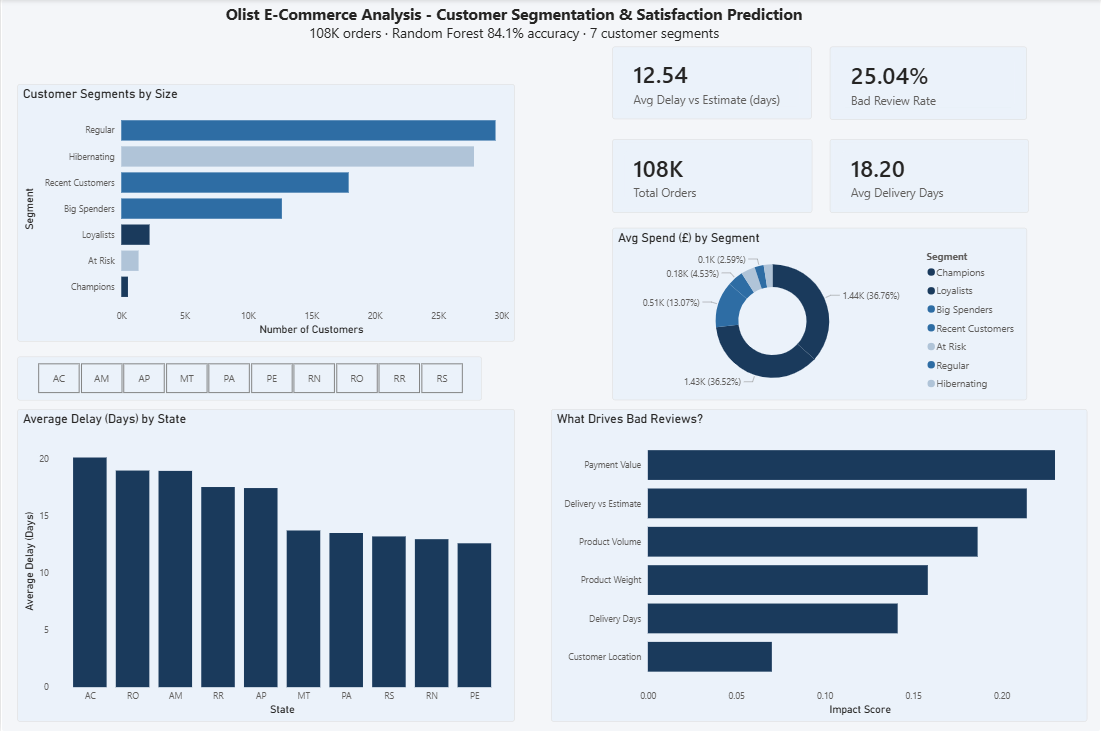

Layout of this report page (visuals, bound fields, positions):
{"tool":"powerbi","page":{"name":"Page 1","canvas":[1500,1000],"ordinal":0},"visuals":[{"type":"cardVisual","fields":{"Data":["Sum(state_delivery.order_count)"]},"box":[833.3,190.9,272.7,100.5],"z":0},{"type":"cardVisual","fields":{"Data":["Avg(state_delivery.avg_delivery_days)"]},"box":[1129.9,190.9,271,100.5],"z":1000},{"type":"cardVisual","fields":{"Data":["Avg(state_delivery.avg_delay)"]},"box":[833.5,65.3,272.1,99.5],"z":2000},{"type":"cardVisual","fields":{"Data":["Avg(state_delivery.bad_review_rate)"]},"box":[1130.4,65.3,269,100],"z":3000},{"type":"clusteredColumnChart","fields":{"Category":["state_delivery.customer_state"],"Y":["Avg(state_delivery.avg_delay)"]},"box":[22.2,559,678.3,426],"z":4000},{"type":"clusteredBarChart","title":"Customer Segments by Size","fields":{"Category":["rfm_segments.Segment"],"Y":["Sum(rfm_segments.customer_count)"]},"box":[22.2,115.9,678.3,351.1],"z":5000},{"type":"slicer","fields":{"Values":["state_delivery.customer_state"]},"box":[22.2,487.4,634,59.6],"z":6000},{"type":"textbox","box":[227.3,0,945.4,84],"z":7000},{"type":"donutChart","fields":{"Category":["rfm_segments.Segment"],"Y":["Sum(rfm_segments.avg_monetary)"]},"box":[833.3,311.9,565.8,235.2],"z":8000},{"type":"clusteredBarChart","title":"What Drives Bad Reviews?","fields":{"Y":["Sum(feature_importance.importance)"],"Category":["feature_importance.feature"]},"box":[749.8,559,731.1,426],"z":9000}]}

Visuals, with their boxes in screenshot pixels (x1, y1, x2, y2), scaled from the page's 1500x1000 canvas onto the 1101x731 screenshot:
cardVisual - Sum(state_delivery.order_count): <box>612,140,812,213</box>
cardVisual - Avg(state_delivery.avg_delivery_days): <box>829,140,1028,213</box>
cardVisual - Avg(state_delivery.avg_delay): <box>612,48,812,120</box>
cardVisual - Avg(state_delivery.bad_review_rate): <box>830,48,1027,121</box>
clusteredColumnChart - state_delivery.customer_state x Avg(state_delivery.avg_delay): <box>16,409,514,720</box>
"Customer Segments by Size" clusteredBarChart: <box>16,85,514,341</box>
slicer - state_delivery.customer_state: <box>16,356,482,400</box>
textbox: <box>167,0,861,61</box>
donutChart - rfm_segments.Segment x Sum(rfm_segments.avg_monetary): <box>612,228,1027,400</box>
"What Drives Bad Reviews?" clusteredBarChart: <box>550,409,1087,720</box>
